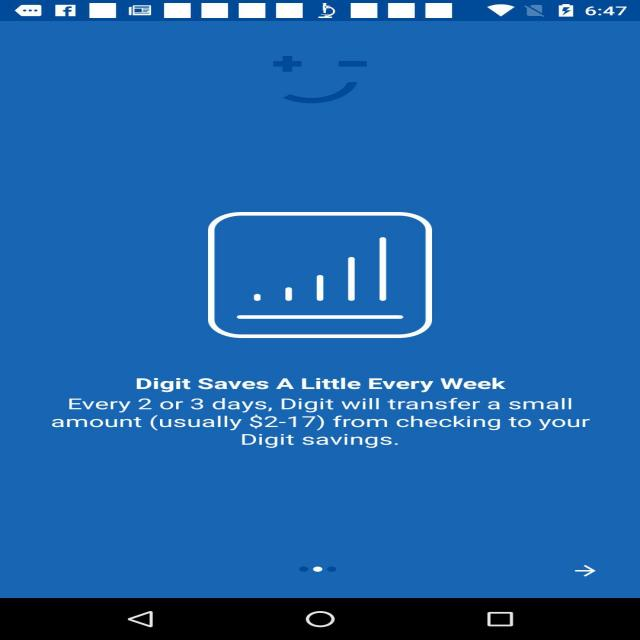button: (560, 560, 610, 582), (290, 562, 346, 576)
icon: (191, 205, 441, 348), (252, 51, 374, 109)
text: (38, 368, 598, 455)
